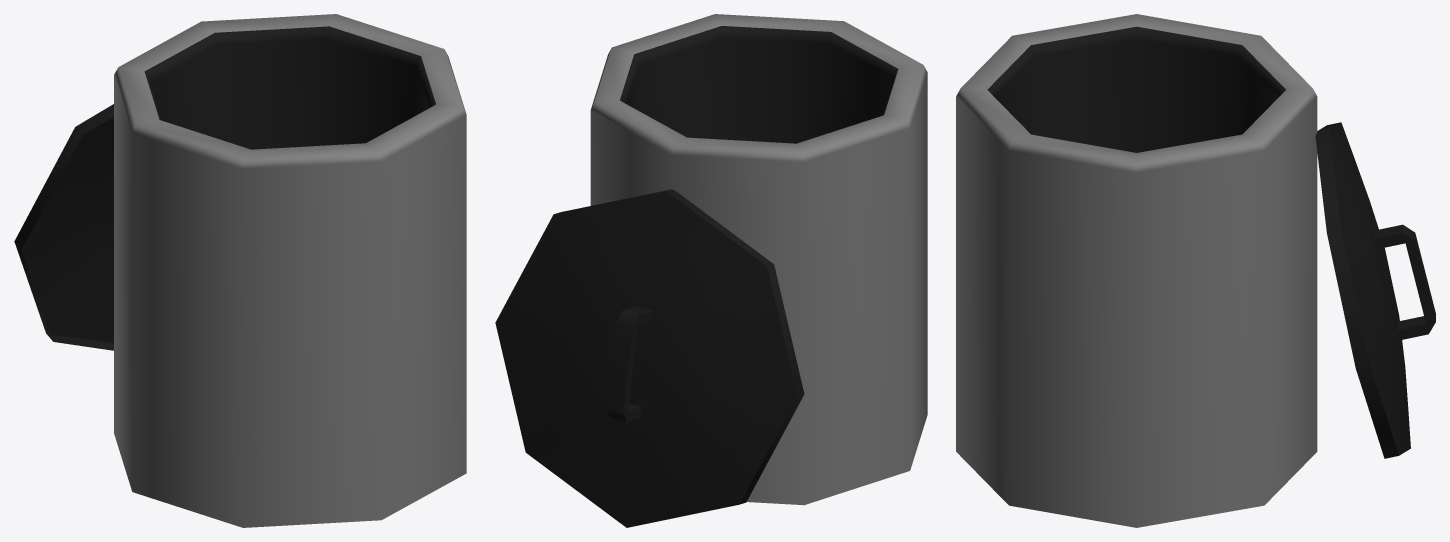
The model's file is SM_RubbishBin.fbx.
3 renders of one model, left to right at view 1: azimuth 30°, elevation 25°; view 2: azimuth 150°, elevation 25°; view 3: azimuth 270°, elevation 25°, orthographic. The views are drawn at different scales.
Parts seen in each view (by area): view 1: SM_RubbishBin; view 2: SM_RubbishBin; view 3: SM_RubbishBin.
Boxes of the visible parts, <box> form: SM_RubbishBin: <box>14,14,466,527</box>; SM_RubbishBin: <box>495,14,927,527</box>; SM_RubbishBin: <box>956,14,1435,527</box>.
Size of the model in its own units: 0.5587 by 0.6195 by 0.742.
